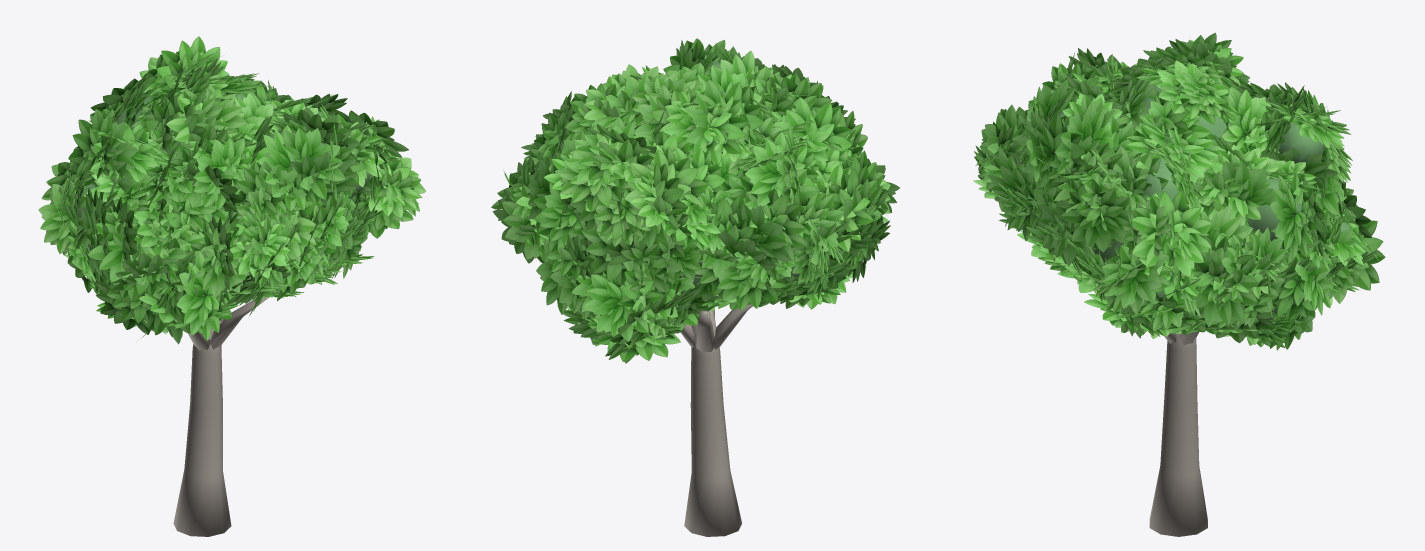
The model's file is tree.glb.
The picture shows the model from 3 angles, left to right: view 1: azimuth 30°, elevation 25°; view 2: azimuth 150°, elevation 25°; view 3: azimuth 270°, elevation 25°; orthographic projection. The views are drawn at different scales.
Visible parts, largest first — view 1: tree_leaves, tree_trunk, tree_branch_0, tree_canopy; view 2: tree_leaves, tree_trunk, tree_branch_0; view 3: tree_leaves, tree_trunk, tree_canopy.
Boxes of the visible parts, left/top/right/bottom form: tree_leaves: left=38, top=36, right=425, bottom=344; tree_trunk: left=173, top=320, right=231, bottom=536; tree_branch_0: left=188, top=297, right=268, bottom=349; tree_canopy: left=77, top=92, right=370, bottom=306; tree_leaves: left=491, top=38, right=899, bottom=363; tree_trunk: left=684, top=310, right=741, bottom=536; tree_branch_0: left=680, top=304, right=752, bottom=352; tree_leaves: left=973, top=32, right=1385, bottom=350; tree_trunk: left=1149, top=334, right=1207, bottom=536; tree_canopy: left=1050, top=81, right=1349, bottom=320.
Size of the model in its own units: 4.59 by 5.3 by 4.45.
4 materials, 1 textured.
